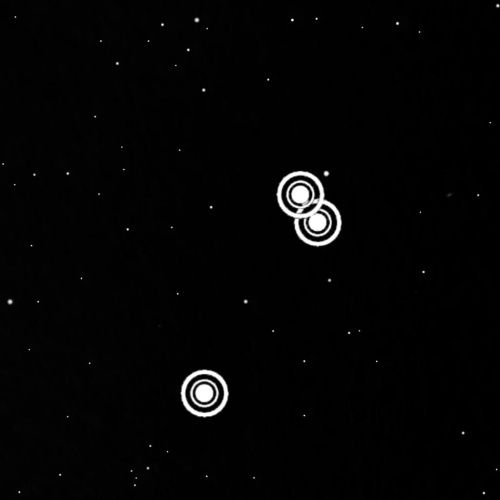canis_minor: (171, 164, 346, 430)
